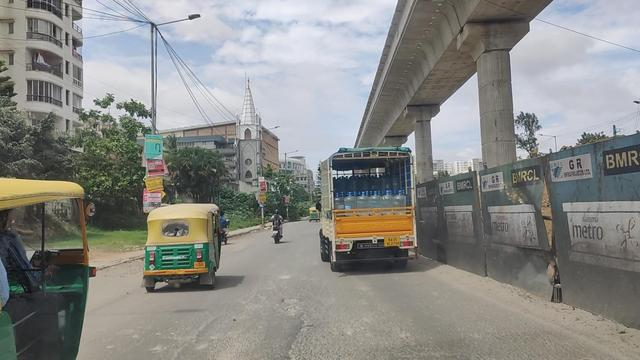HMV: (318, 143, 415, 276)
LMV: (146, 202, 220, 294), (268, 209, 282, 248)
RoadDamages: (179, 320, 297, 360), (342, 317, 439, 360), (275, 291, 309, 316)
